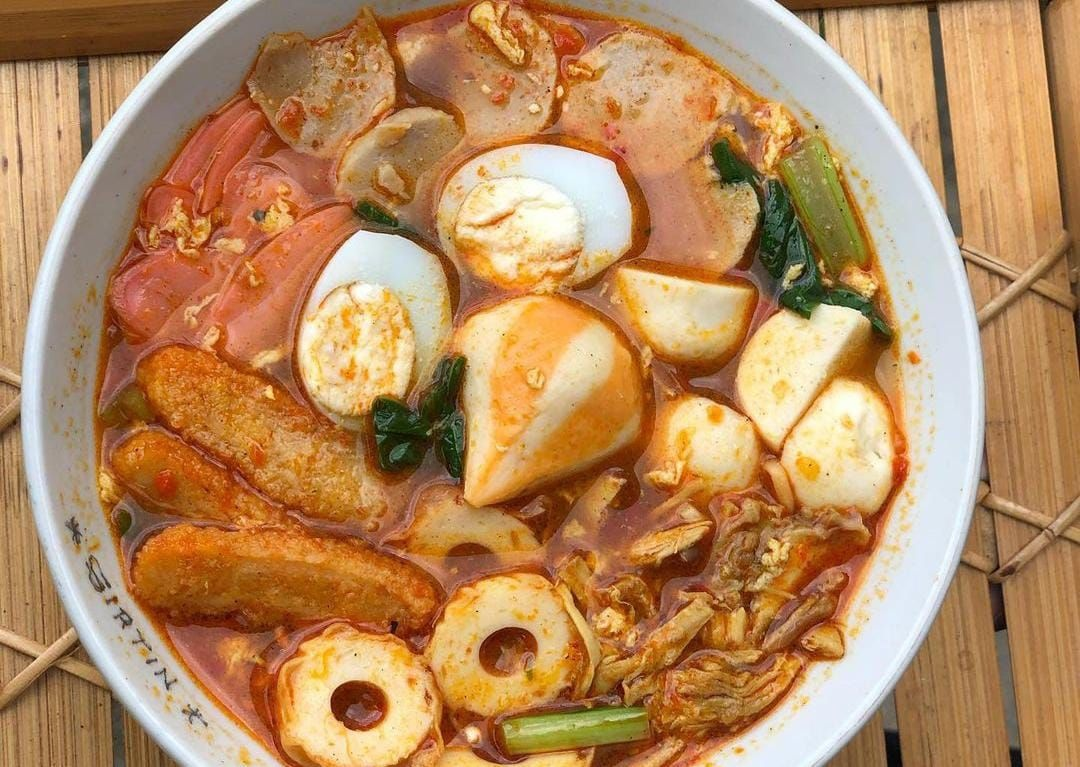seblak: (92, 4, 903, 767)
